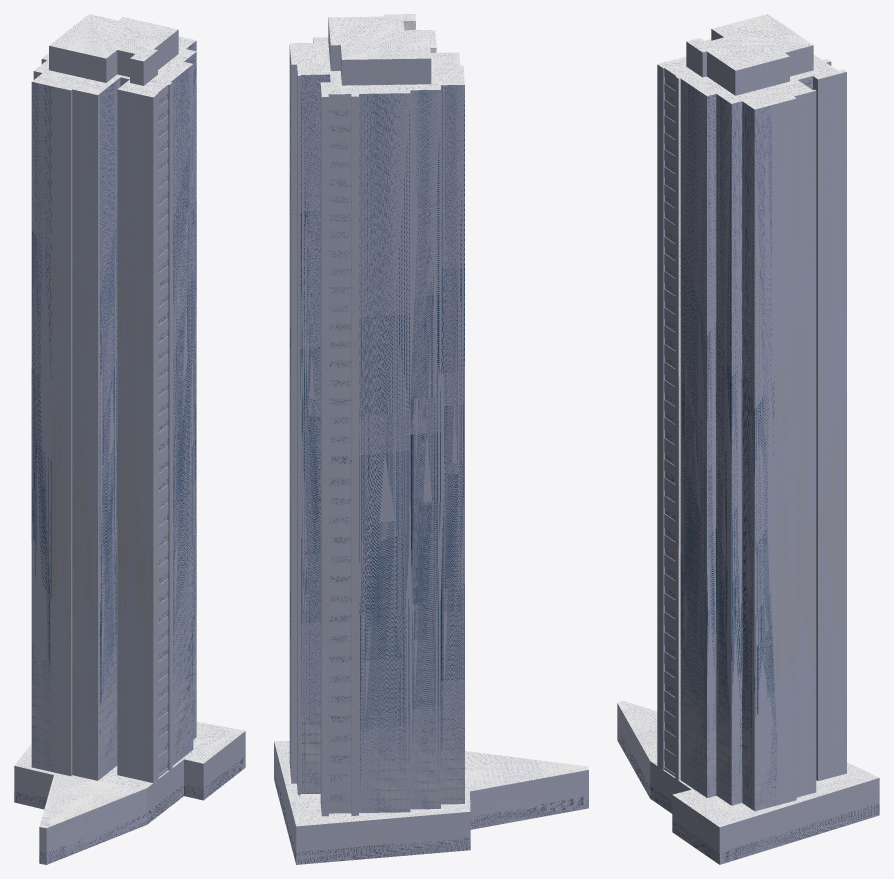
The model's file is torre_de_cali.fbx.
3 views of the same model, side by side, from view 1: azimuth 30°, elevation 25°; view 2: azimuth 150°, elevation 25°; view 3: azimuth 270°, elevation 25° (orthographic). The views are drawn at different scales.
Parts seen in each view (by area): view 1: Model; view 2: Model; view 3: Model.
Boxes of the visible parts, x1,y1,x2,y2 form: Model: (14, 14, 245, 864); Model: (274, 14, 588, 864); Model: (617, 14, 879, 864).
Size of the model in its own units: 64.95 by 183 by 56.91.
